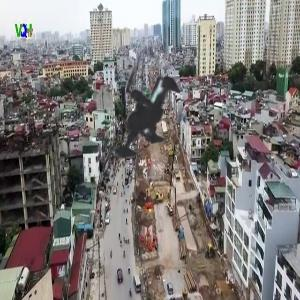drone: (61, 26, 248, 213)
